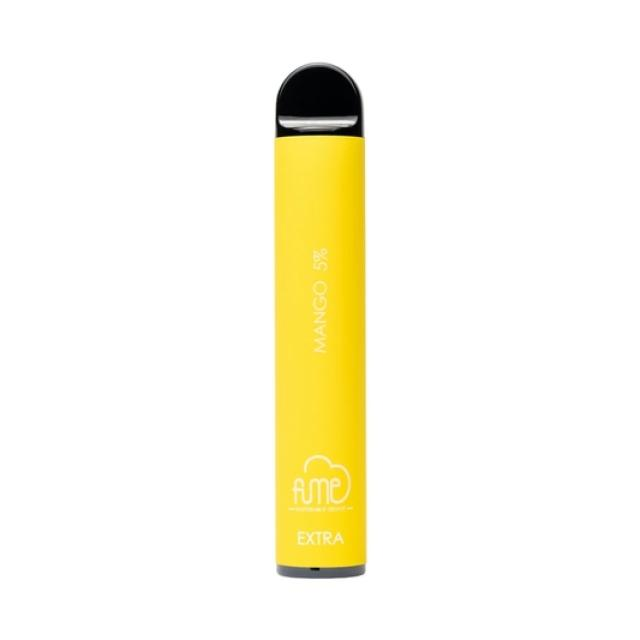Vape-images: (272, 61, 368, 579)
